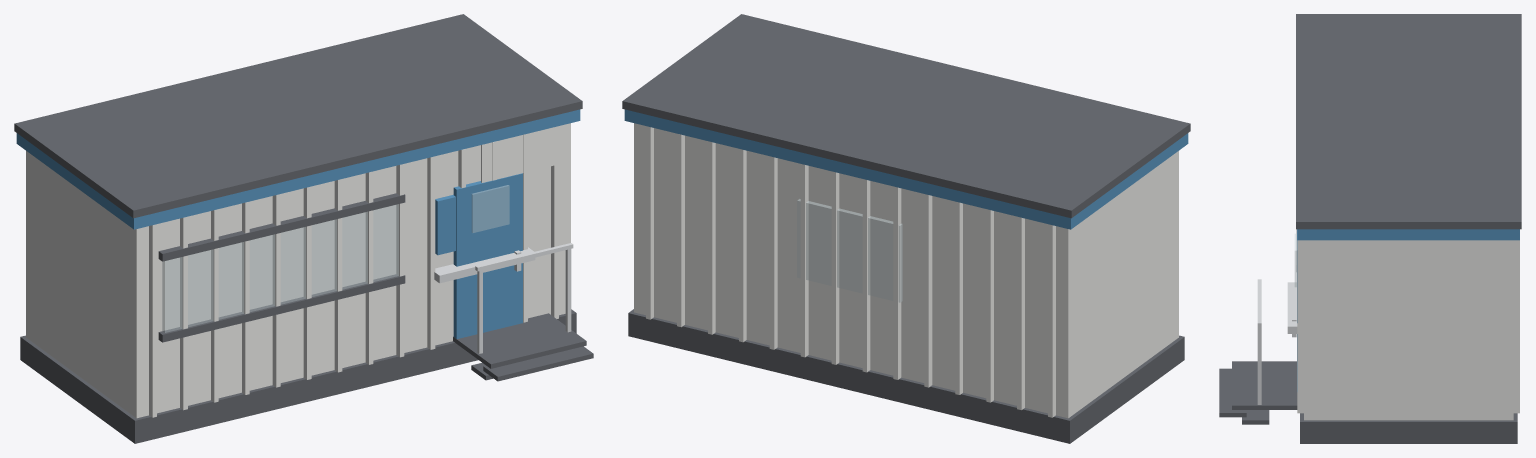
Rendered from shipyard-and-dry-dock-shipyard-and-dry-dock-mess-cabin-5de93af5__37962.glb.
3 views of the same model, side by side, from view 1: azimuth 30°, elevation 25°; view 2: azimuth 150°, elevation 25°; view 3: azimuth 270°, elevation 25° (orthographic). The views are drawn at different scales.
Parts seen in each view (by area): view 1: shipyard-and-dry-dock-mess-cabin, cabin-door/blue, cabin-door/glass; view 2: shipyard-and-dry-dock-mess-cabin; view 3: shipyard-and-dry-dock-mess-cabin.
Boxes of the visible parts, x1,y1,x2,y2 form: shipyard-and-dry-dock-mess-cabin: [14, 14, 593, 443]; cabin-door/blue: [453, 173, 522, 338]; cabin-door/glass: [471, 185, 509, 232]; shipyard-and-dry-dock-mess-cabin: [622, 14, 1190, 443]; shipyard-and-dry-dock-mess-cabin: [1219, 14, 1521, 443].
Bounding box in the file's own units: 6.1 × 3.06 × 3.75.
